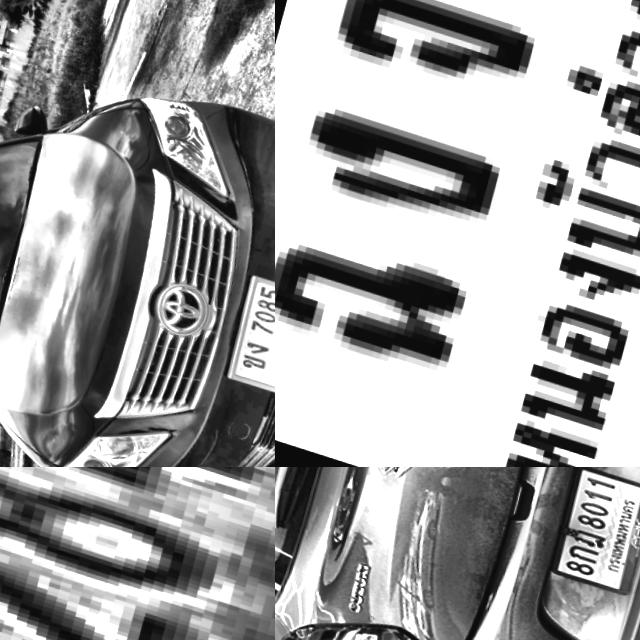license-plate: (275, 0, 640, 467), (0, 467, 275, 640), (554, 467, 640, 586), (223, 255, 275, 389)
